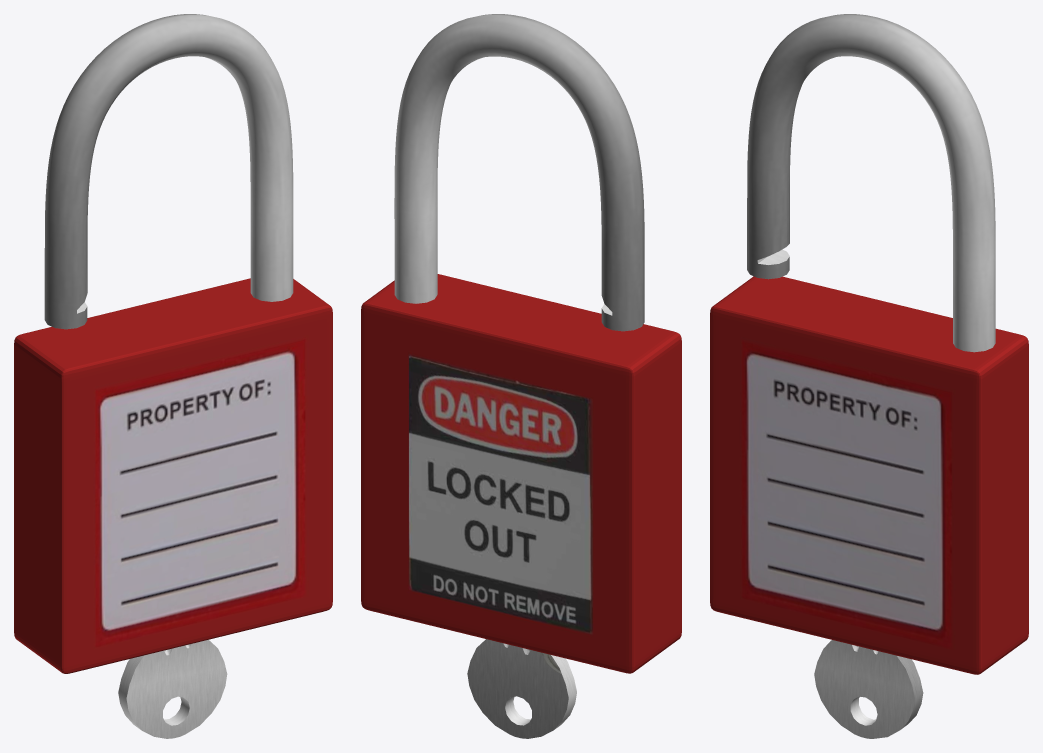
Rendered from candado.glb.
3 views of the same model, side by side, from view 1: azimuth 30°, elevation 25°; view 2: azimuth 150°, elevation 25°; view 3: azimuth 330°, elevation 25° (orthographic).
Parts seen in each view (by area): view 1: Lock_1, Lock_1_0, Key_3; view 2: Lock_1, Lock_1_0, Key_3; view 3: Lock_1, Lock_1_0, Key_3.
Boxes of the visible parts, x1,y1,x2,y2 form: Lock_1: [14, 278, 332, 673]; Lock_1_0: [44, 14, 293, 329]; Key_3: [118, 640, 227, 738]; Lock_1: [361, 274, 681, 673]; Lock_1_0: [394, 14, 644, 331]; Key_3: [467, 639, 576, 738]; Lock_1: [710, 276, 1028, 674]; Lock_1_0: [747, 14, 995, 352]; Key_3: [814, 640, 923, 738].
Size of the model in its own units: 0.0794 by 0.1993 by 0.025.
Materials: 2 (2 with a texture image).
